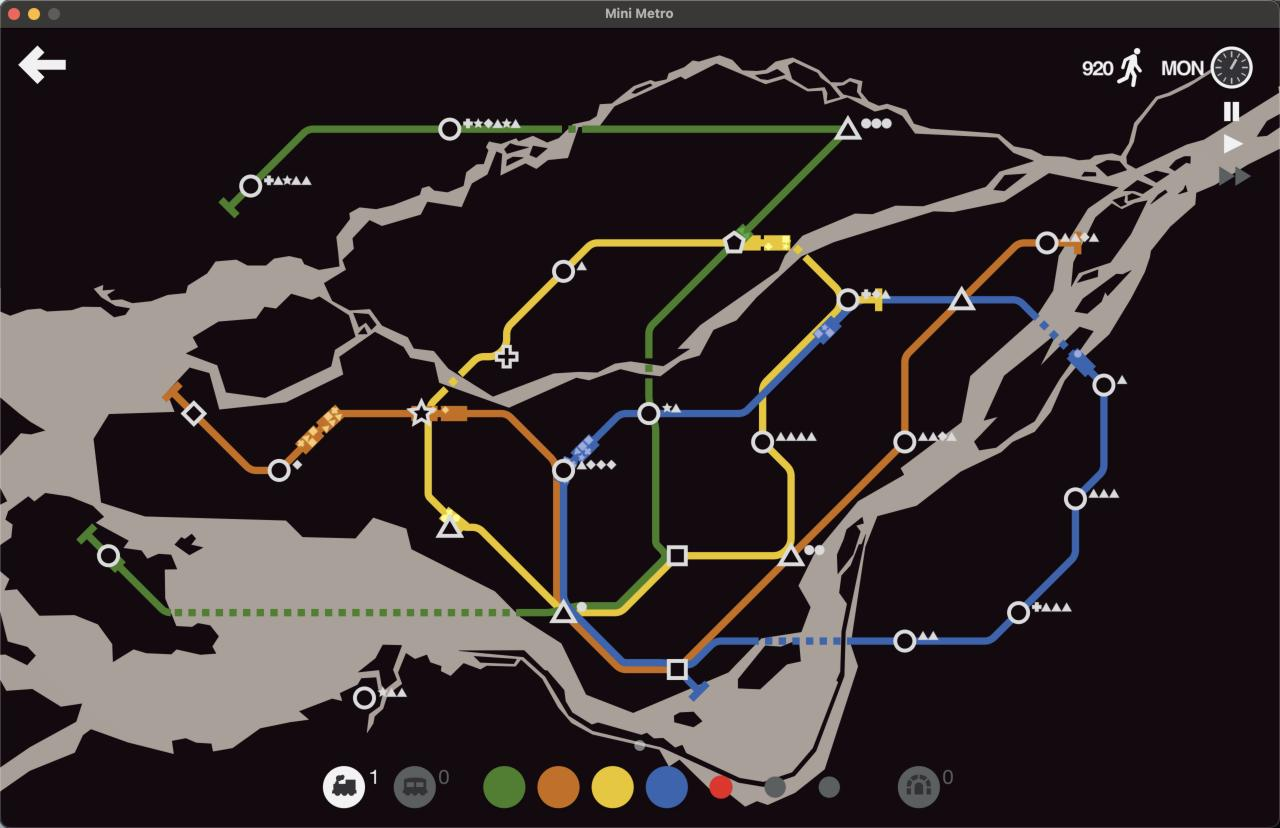CIRCLE: (551, 457, 577, 484), (96, 543, 122, 568), (267, 458, 292, 484), (892, 429, 918, 454), (1092, 372, 1117, 398), (352, 685, 377, 710), (835, 287, 860, 312), (552, 259, 577, 284), (751, 429, 776, 454), (239, 173, 263, 198), (1007, 600, 1031, 625), (1035, 231, 1060, 255), (1063, 487, 1088, 511), (438, 117, 462, 141), (637, 401, 661, 425), (893, 629, 917, 653)
CROSS: (494, 345, 520, 369)
GEM: (180, 400, 208, 428)
PENTAGON: (722, 229, 746, 254)
SQUARE: (666, 544, 689, 566), (666, 658, 688, 680)
STAR: (406, 397, 439, 427)
TRIANGLE: (435, 508, 465, 539), (947, 284, 977, 311), (549, 598, 579, 624), (835, 115, 862, 140), (778, 543, 805, 568)
